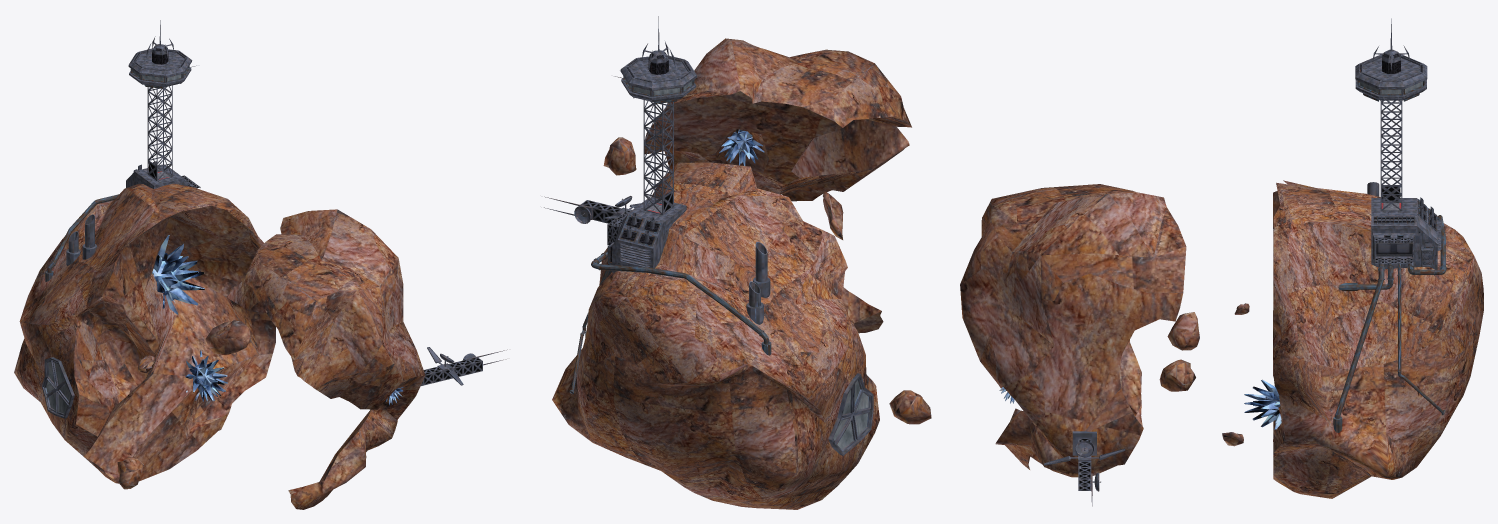
The model's file is SerenityOutpost.obj.
The picture shows the model from 3 angles, left to right: view 1: azimuth 30°, elevation 25°; view 2: azimuth 150°, elevation 25°; view 3: azimuth 270°, elevation 25°; orthographic projection. The views are drawn at different scales.
Visible parts, largest first — view 1: station; view 2: station; view 3: station.
Boxes of the visible parts, x1,y1,x2,y2 form: station: [14, 20, 507, 509]; station: [544, 16, 931, 509]; station: [960, 18, 1483, 506].
Bounding box in the file's own units: 192 × 214 × 203.
1 material, 1 textured.
